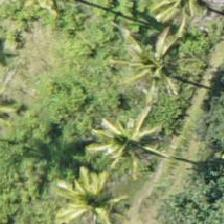coconut_tree: (112, 21, 202, 111), (87, 98, 177, 188), (44, 163, 134, 223)
